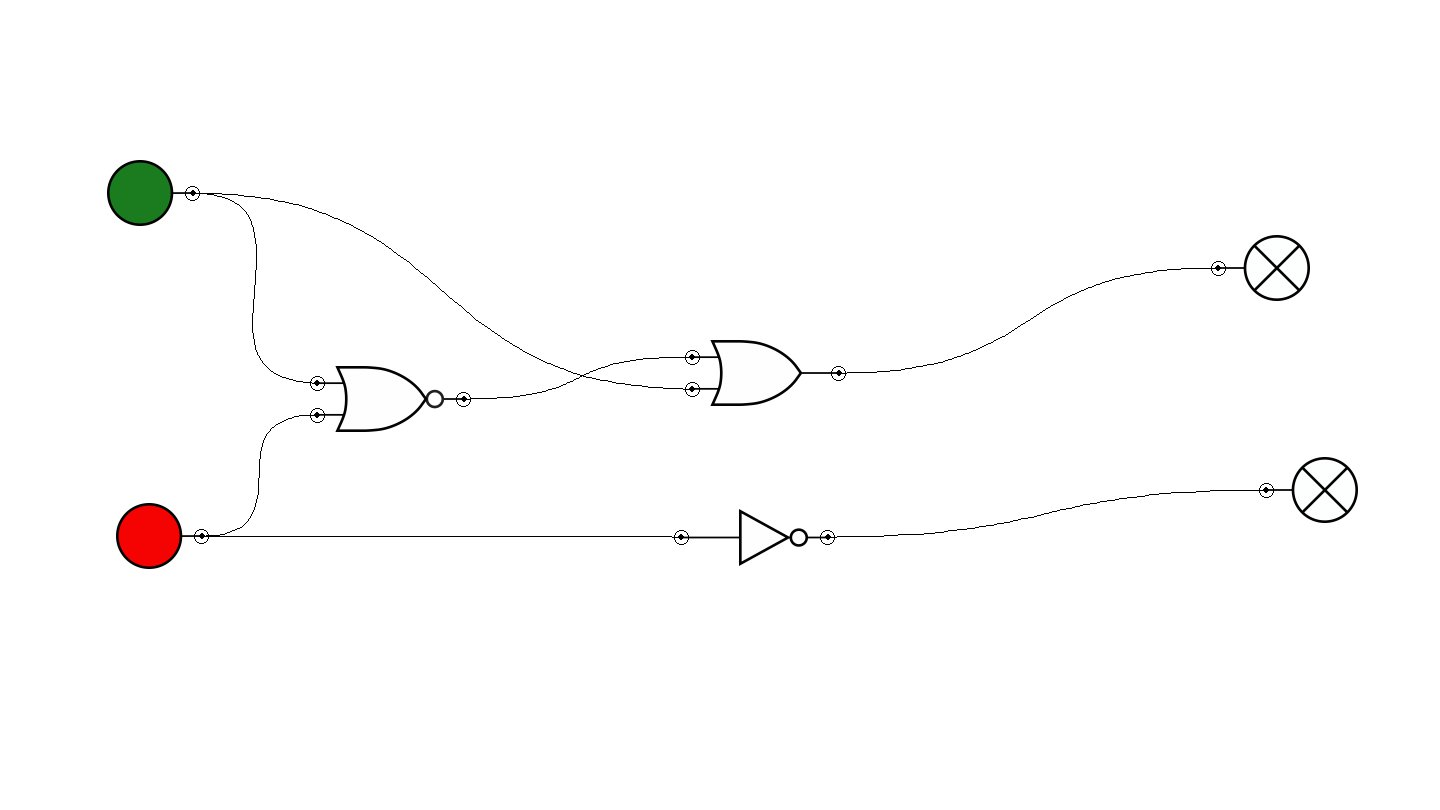bulb: (1211, 235, 1310, 301), (1259, 457, 1358, 523)
nor: (310, 366, 471, 432)
not: (674, 509, 835, 566)
or: (685, 340, 846, 406)
switch_False: (116, 503, 209, 569)
switch_True: (107, 160, 200, 226)
